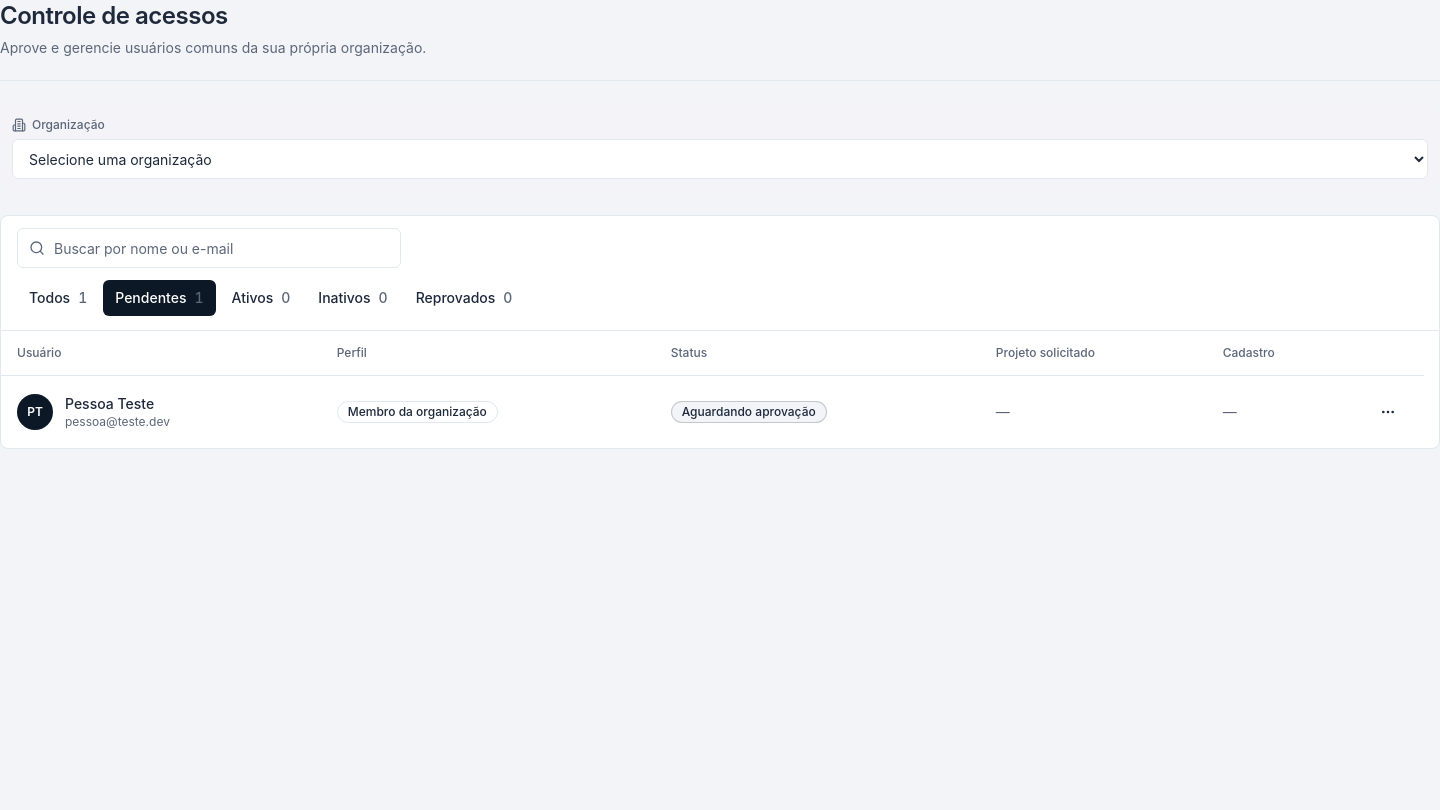
Test: AccessControlPage project assignment › lets an administrator choose the initial project while approving a pending registration
The image size is (1440, 810).
expect the column heading "Usuário" is shown: met, box [1,331,321,375]
expect the column heading "Perfil" is shown: met, box [321,331,655,375]
Click the button named "Ações: Pessoa Teste": (1388, 412) [1368,392,1408,432]
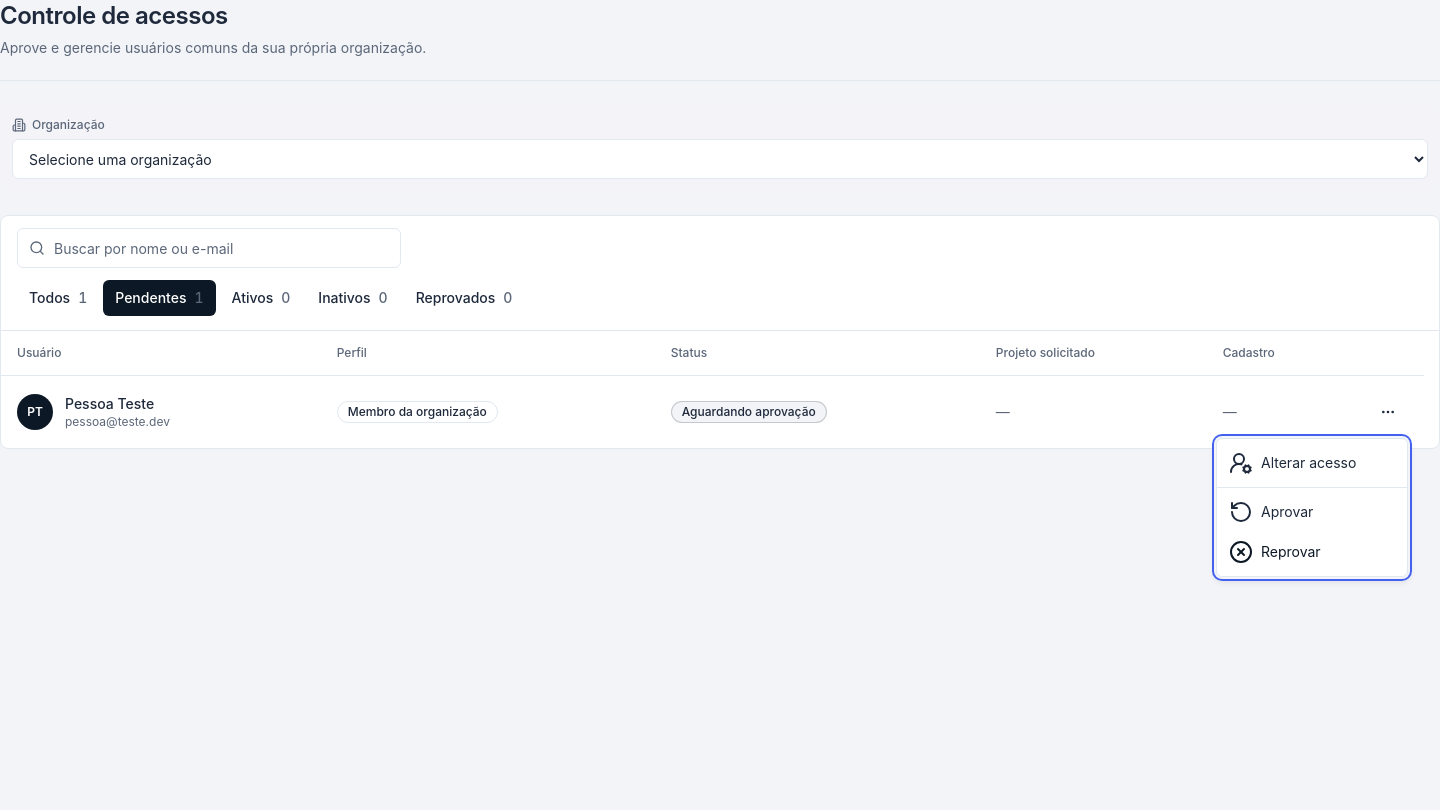
Click the menu item "Aprovar": (1271, 512) [1229,500,1313,524]
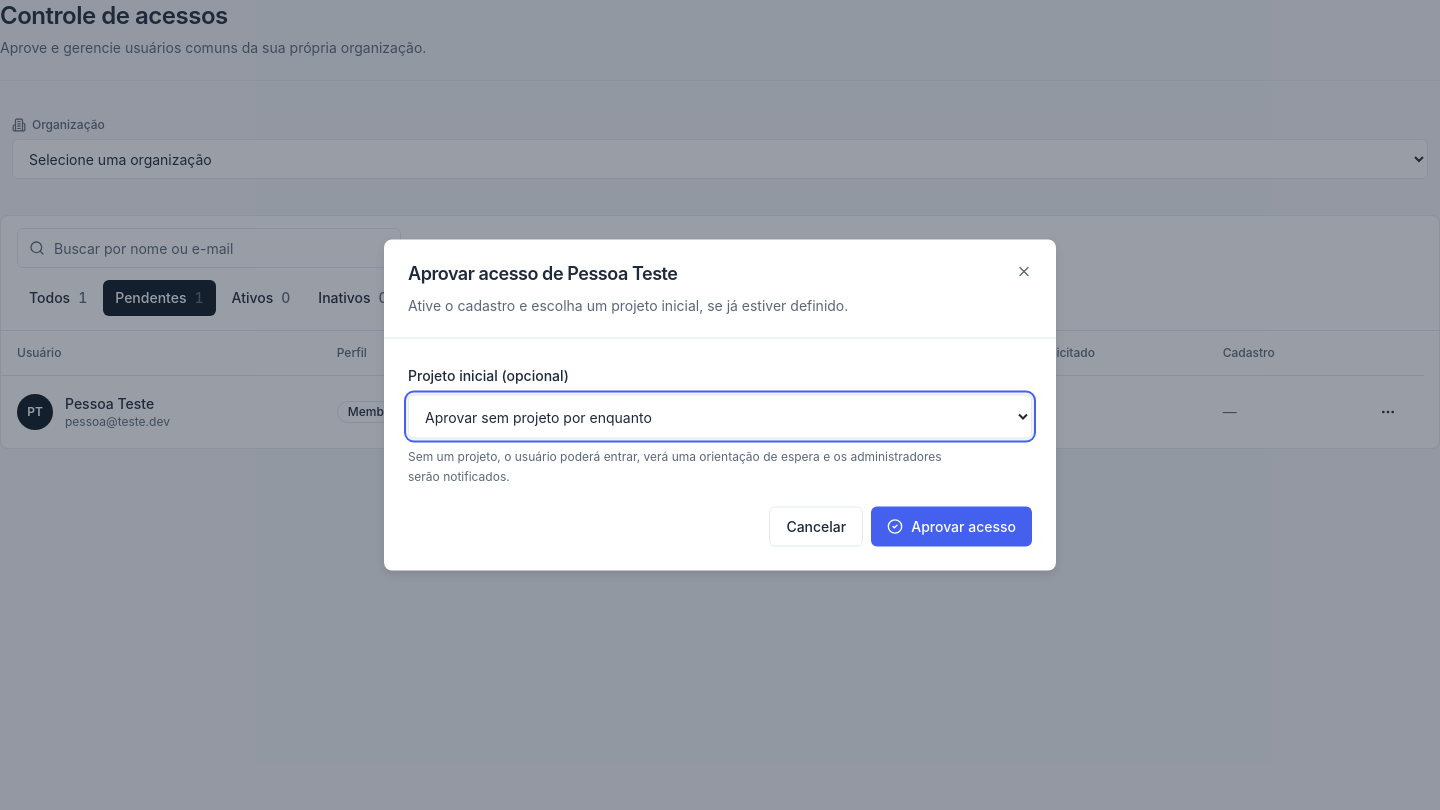
expect the dialog shows "Aprovar acesso de Pessoa Teste": met, box [408,262,678,284]
Select "Pesquisa nacional" in the dropdown labelled "Projeto inicial (opcional)": (720, 416) [408,394,1032,438]
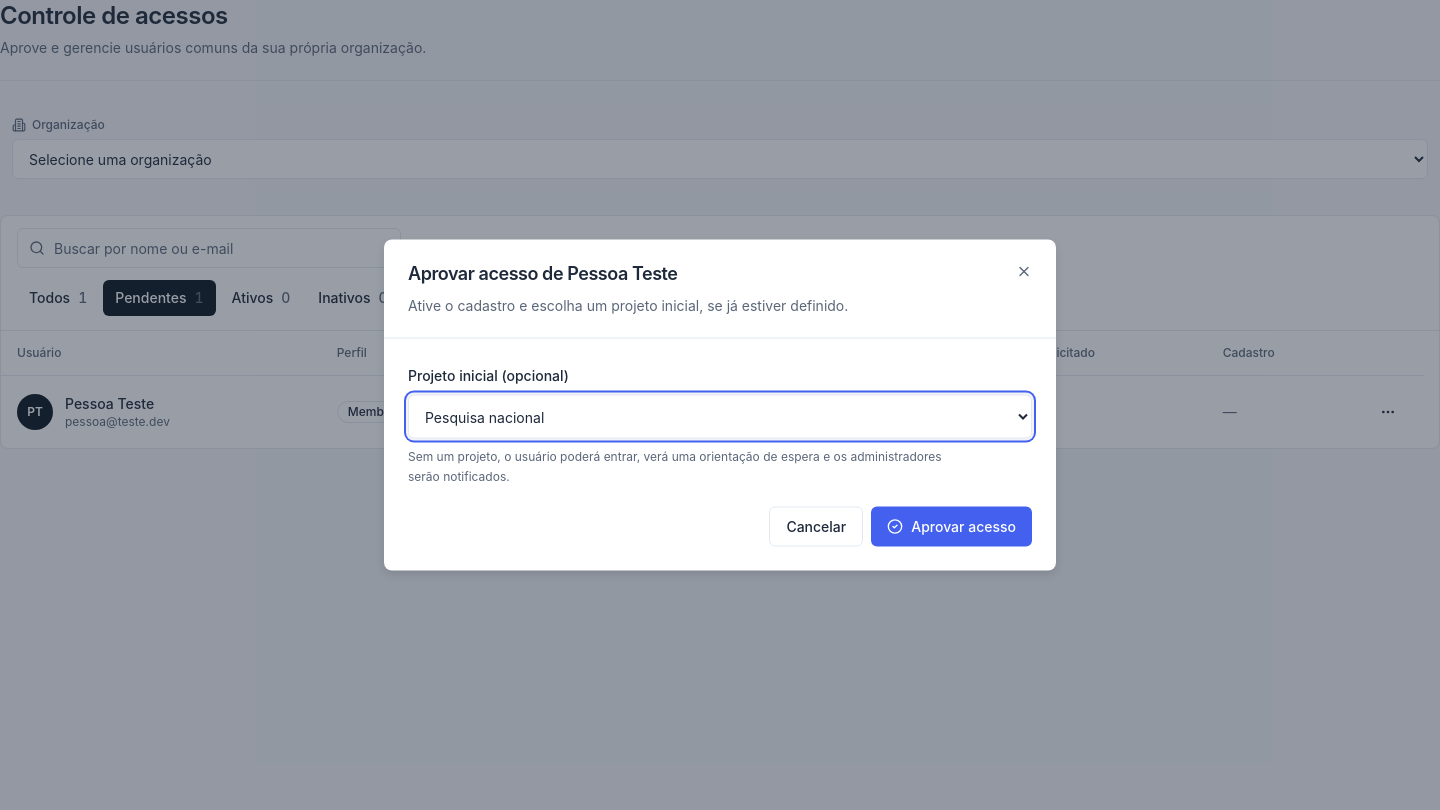
Click the button "Aprovar acesso": (952, 526) [871,506,1032,546]
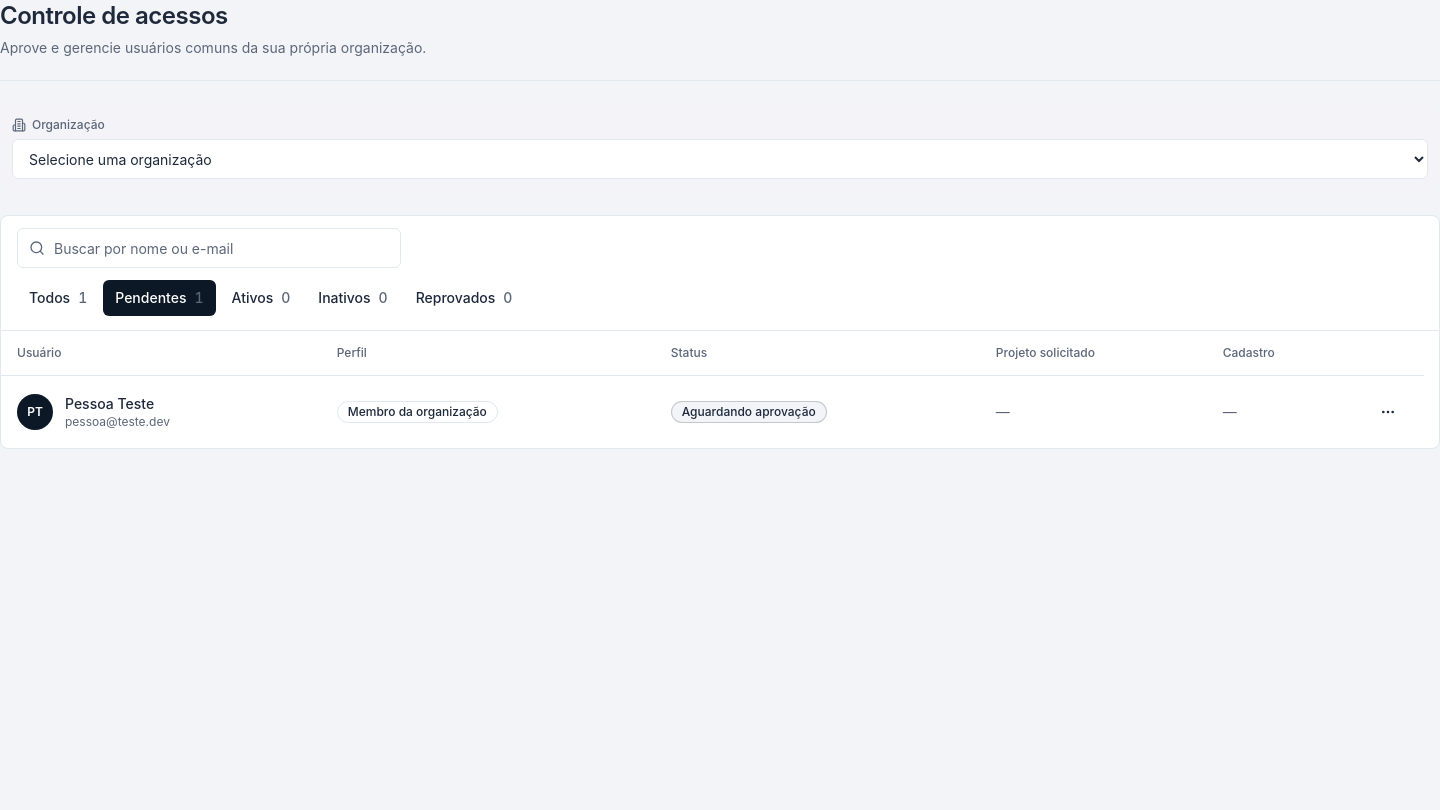
expect the dialog is gone: met
Click the button named "Ações: Pessoa Teste": (1388, 412) [1368,392,1408,432]
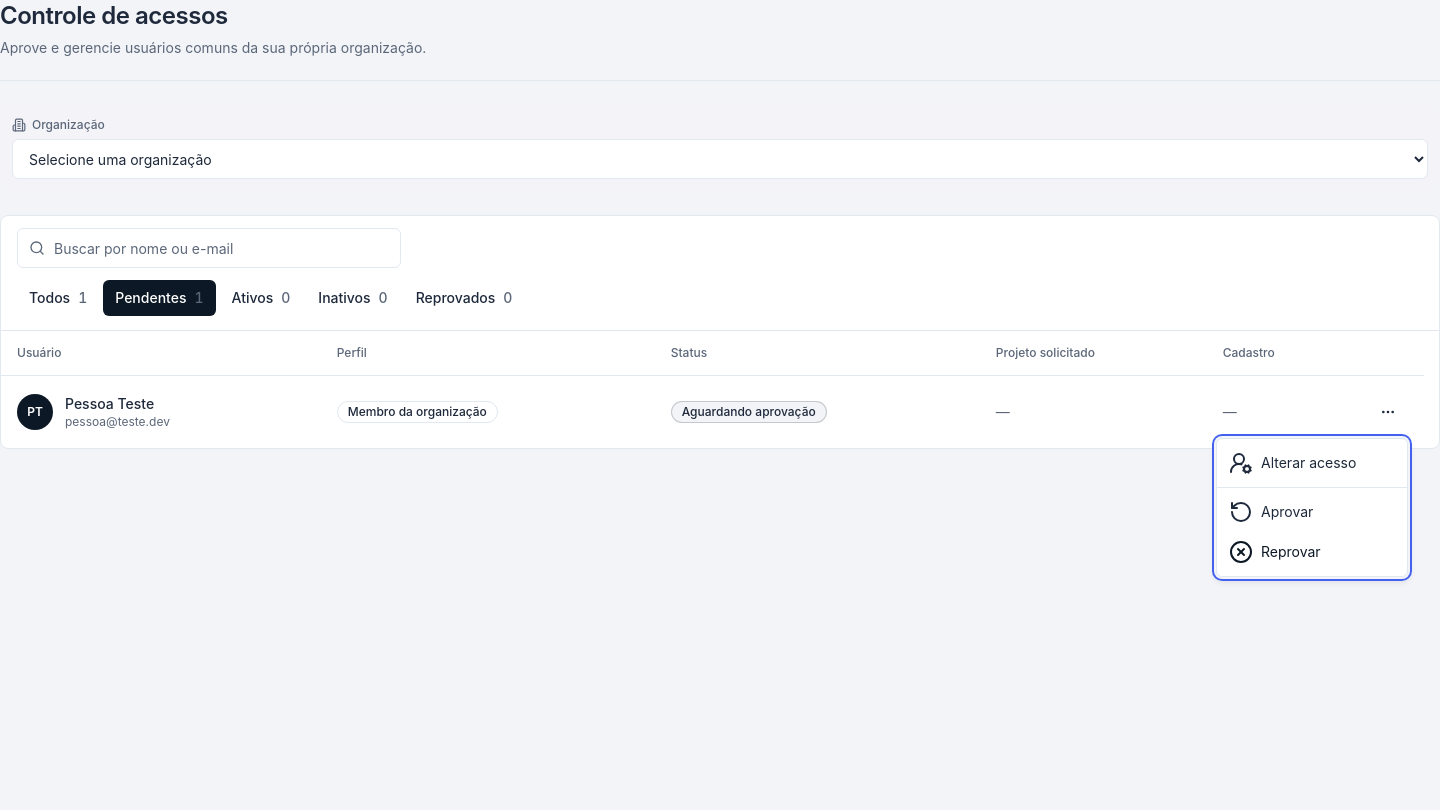
Click the menu item "Alterar acesso": (1293, 463) [1229,451,1356,475]
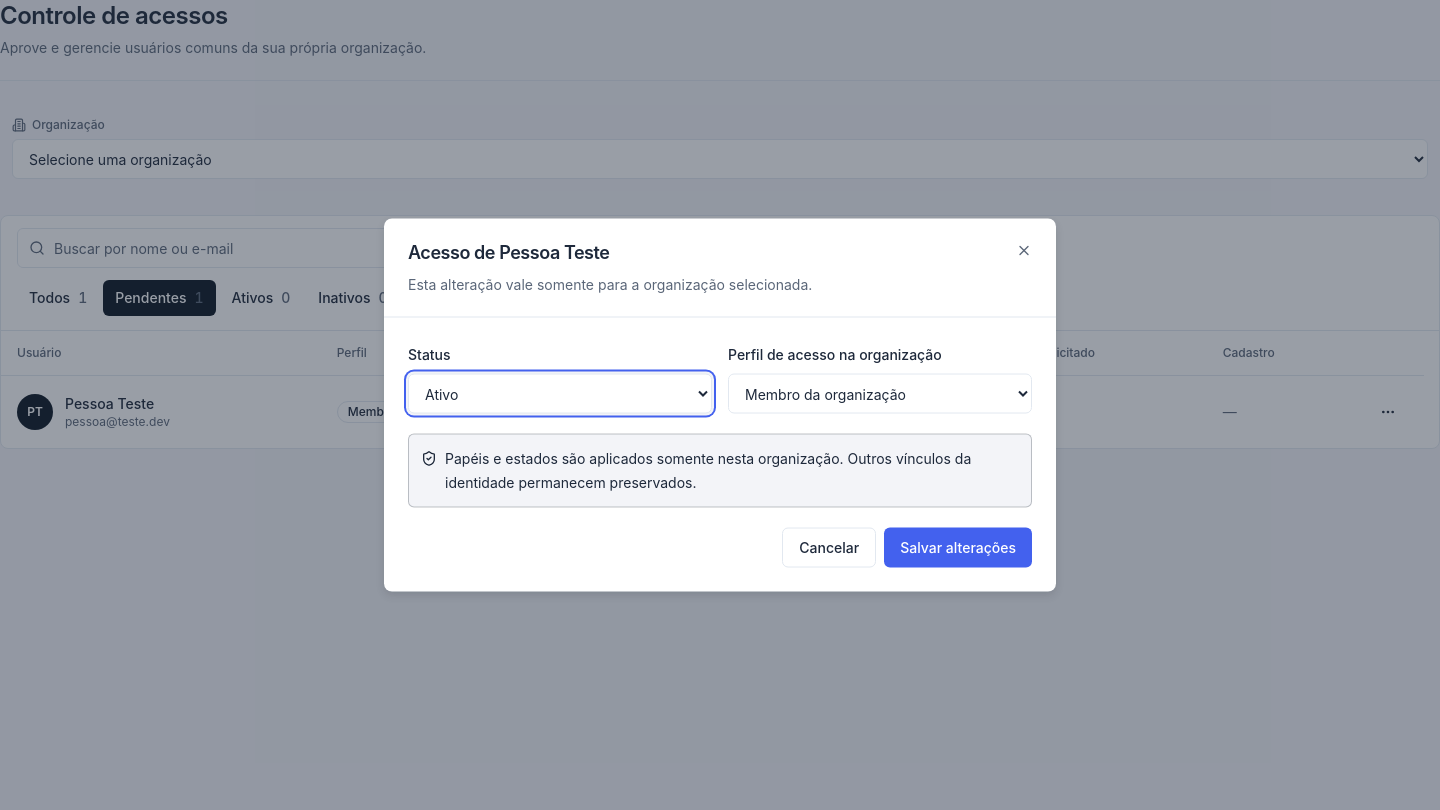
expect the dialog shows "Acesso de Pessoa Teste": met, box [408,242,610,262]
